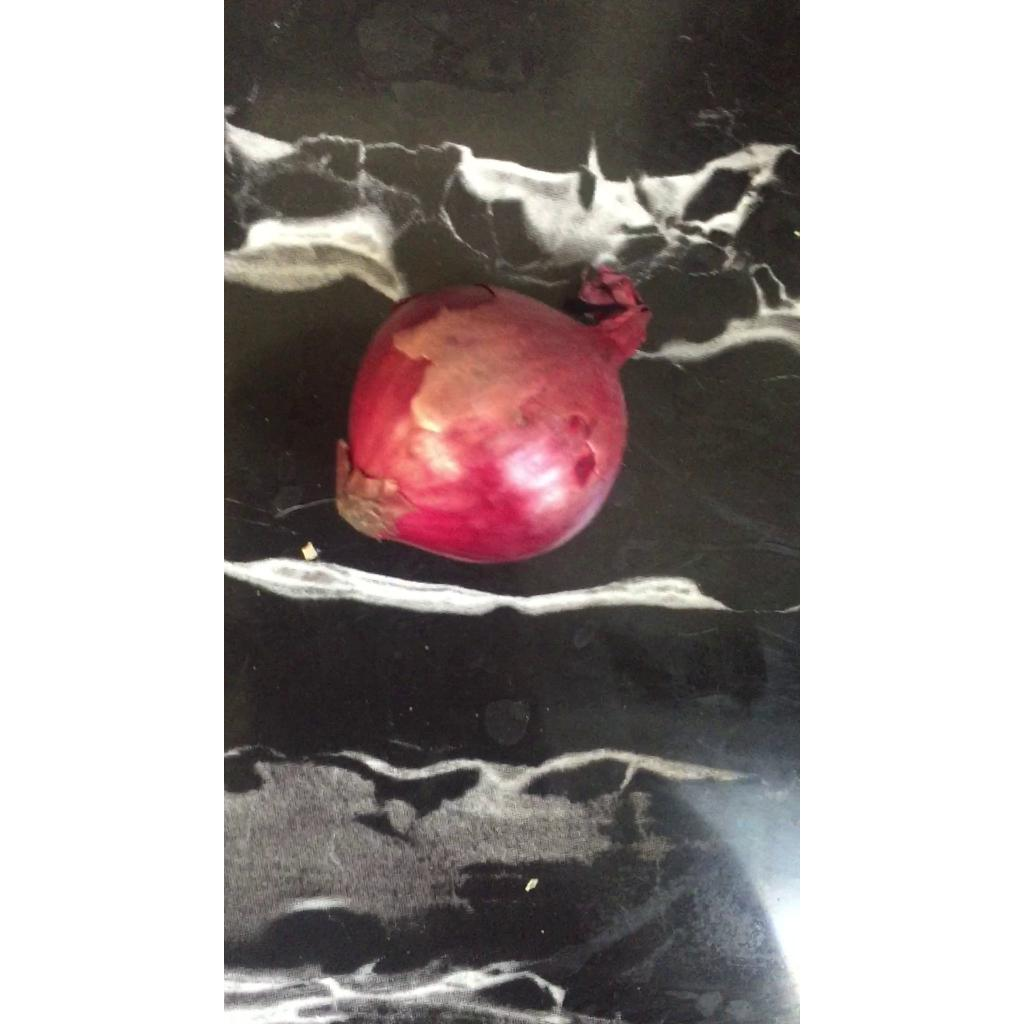Onion: (334, 266, 650, 562)
